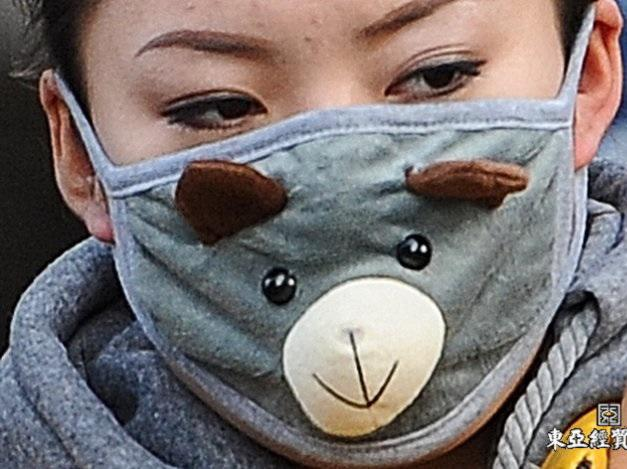OK: (81, 23, 573, 431)
